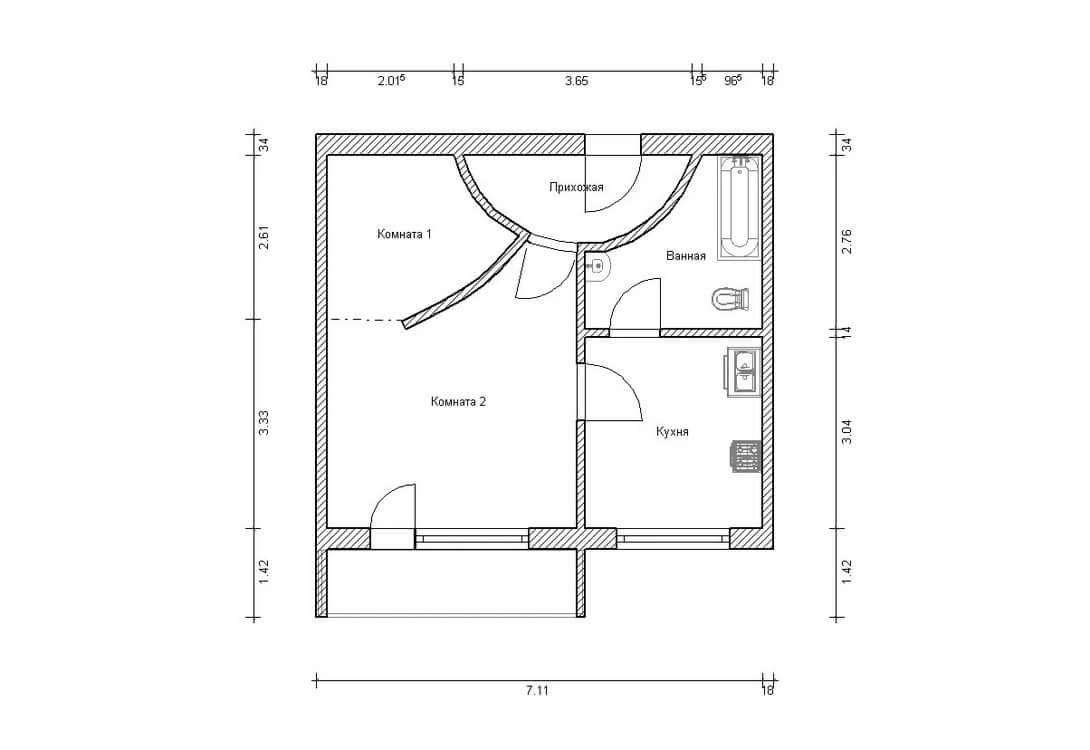balcony: (326, 549, 578, 613)
bathroom: (582, 154, 763, 330)
bedroom: (328, 154, 520, 320)
hallway: (464, 156, 692, 243)
kitchen: (584, 338, 762, 529)
living_room: (326, 242, 580, 528)
